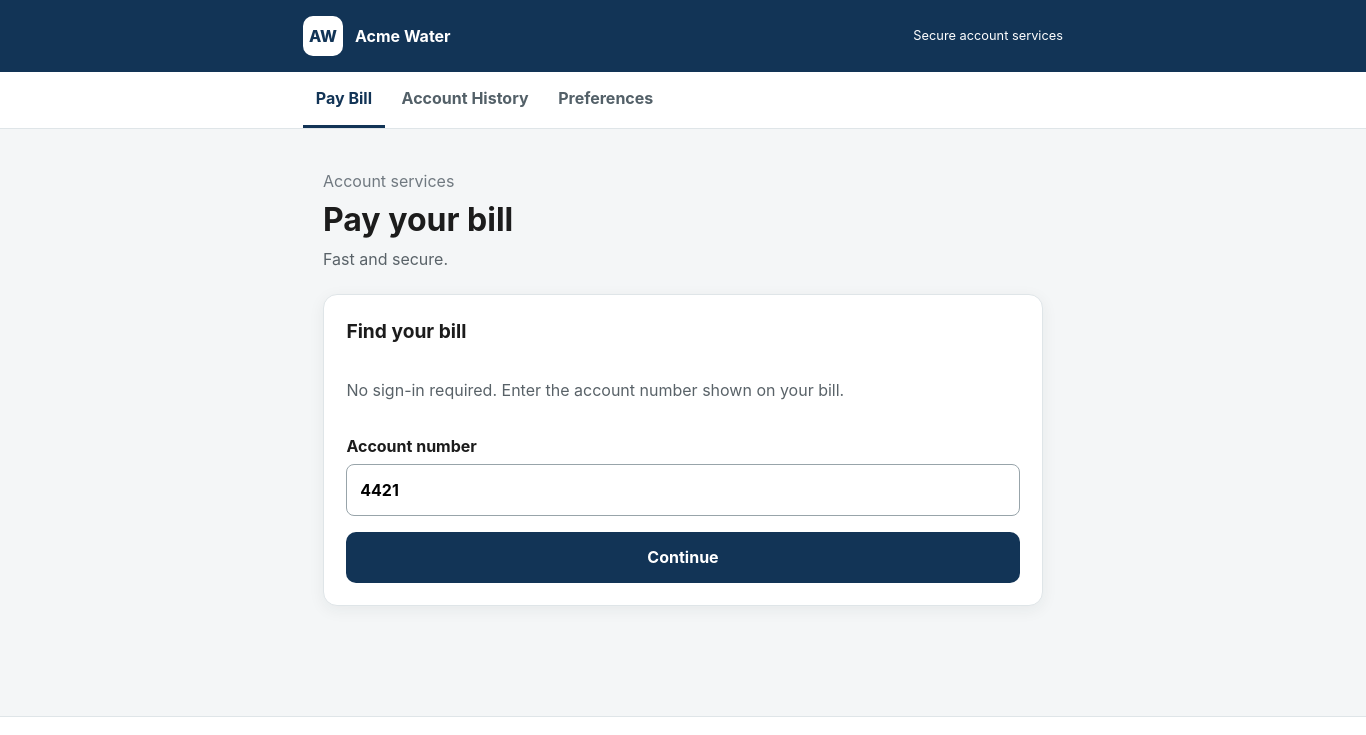
QA fixes › shows a confirmation after saving preferences
Click the button with test id "lookup-submit" at (683, 557), box [346,532,1020,583]
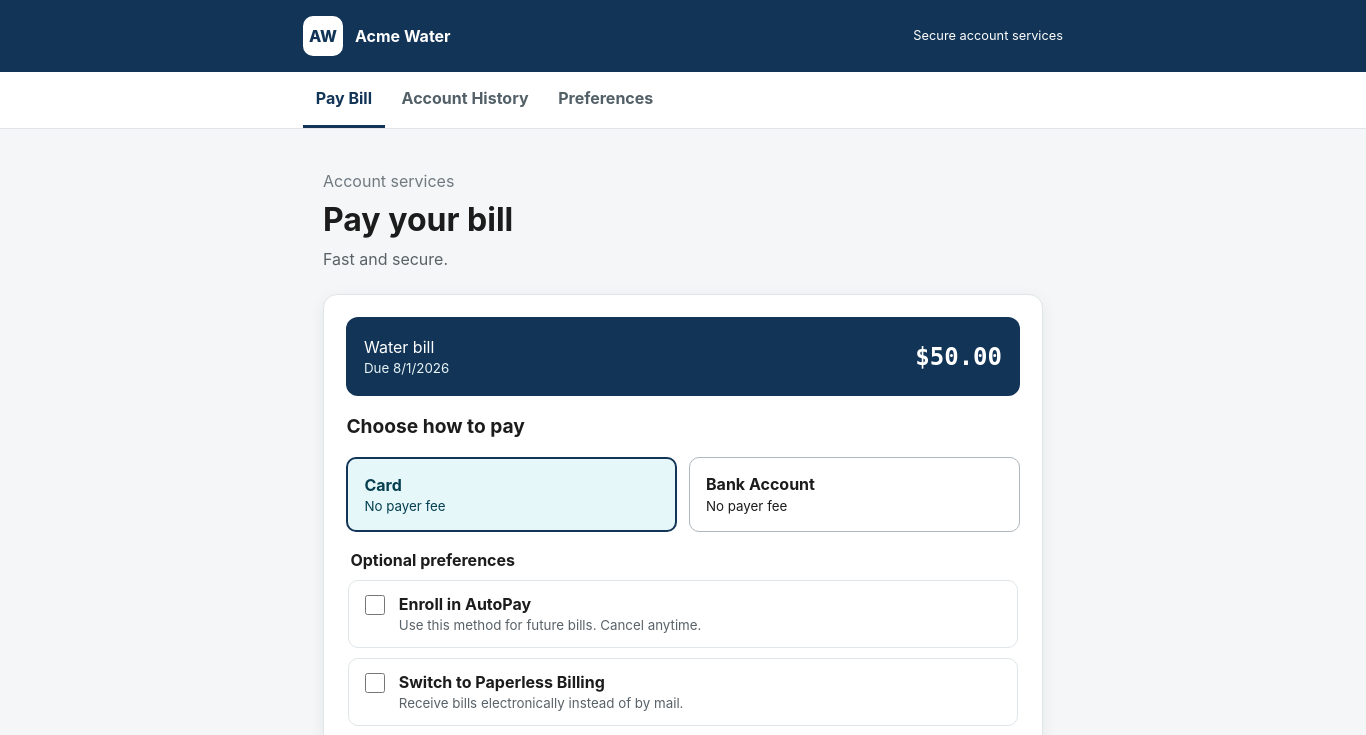
Click the button "Preferences" at (606, 100), box [545,72,666,128]
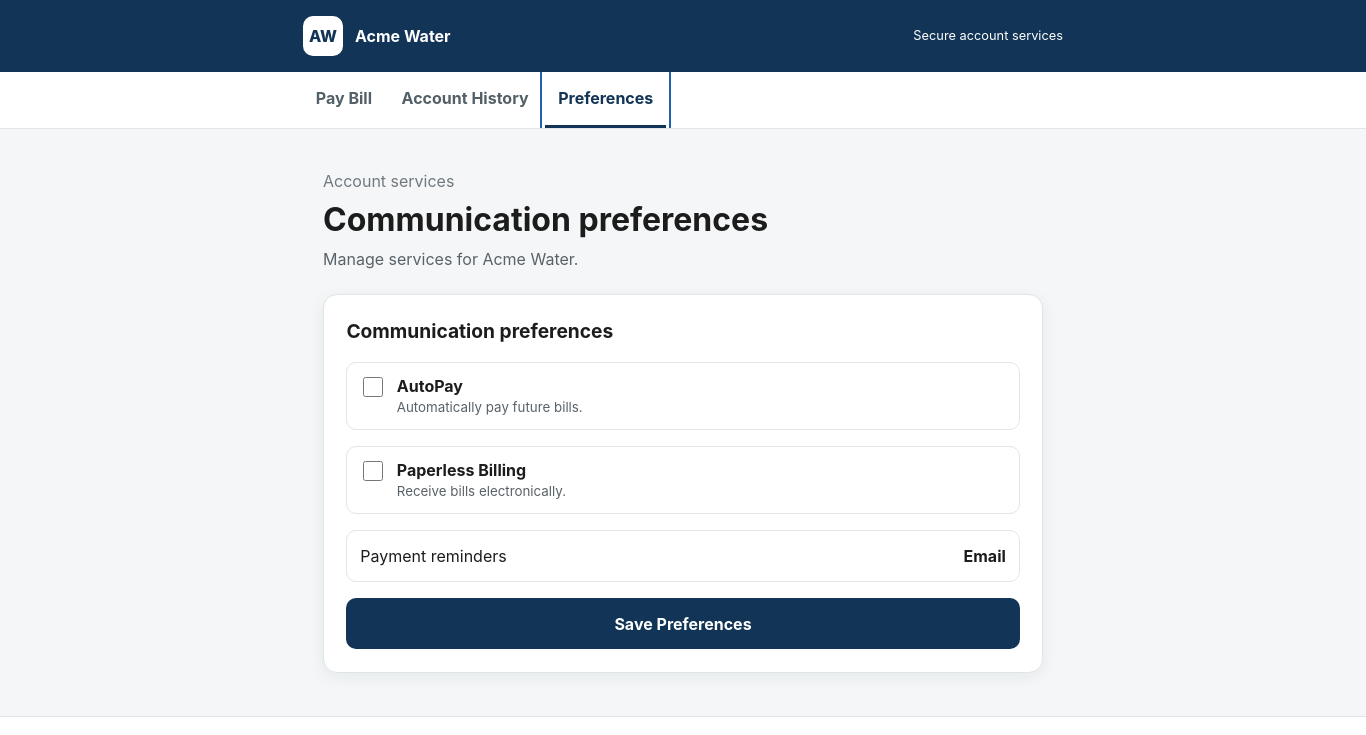
Click the button "Save Preferences" at (683, 624), box [346,598,1020,649]
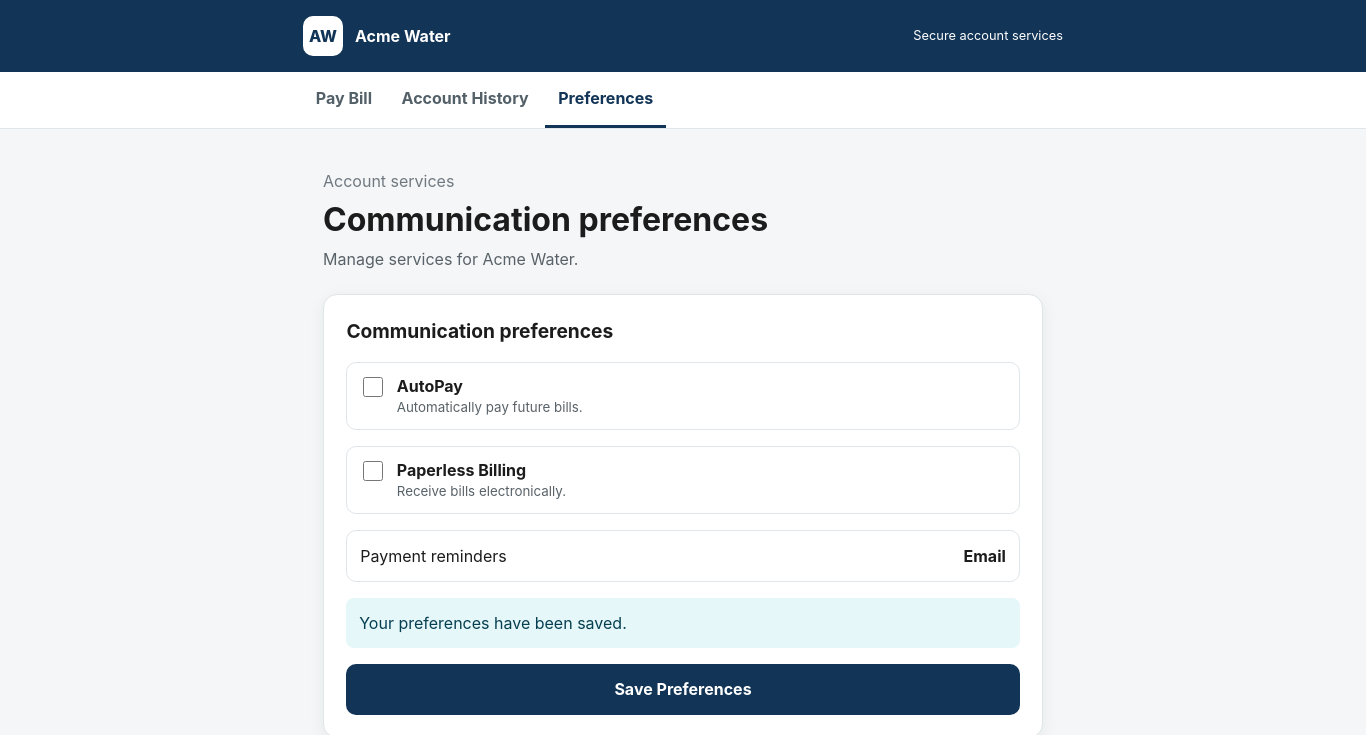
Expected: the message "Your preferences have been saved." is shown, [346,598,1020,648]
